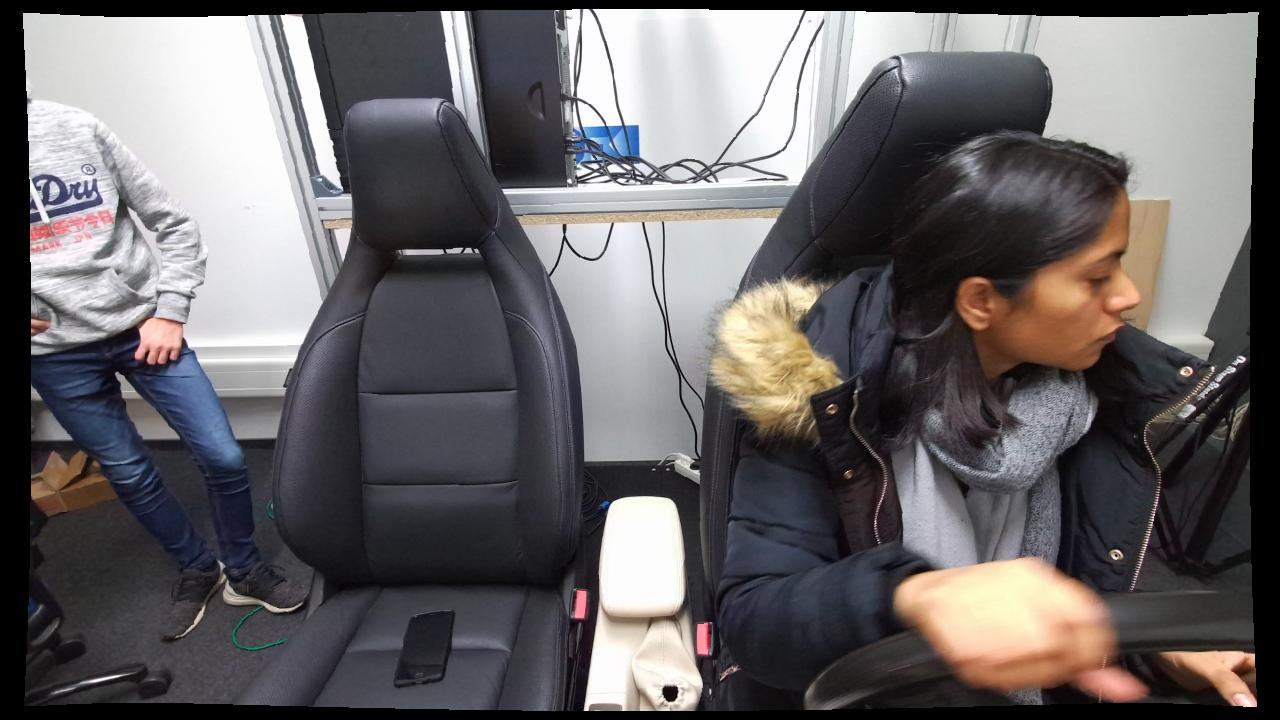Distracted: (711, 126, 1143, 710)
